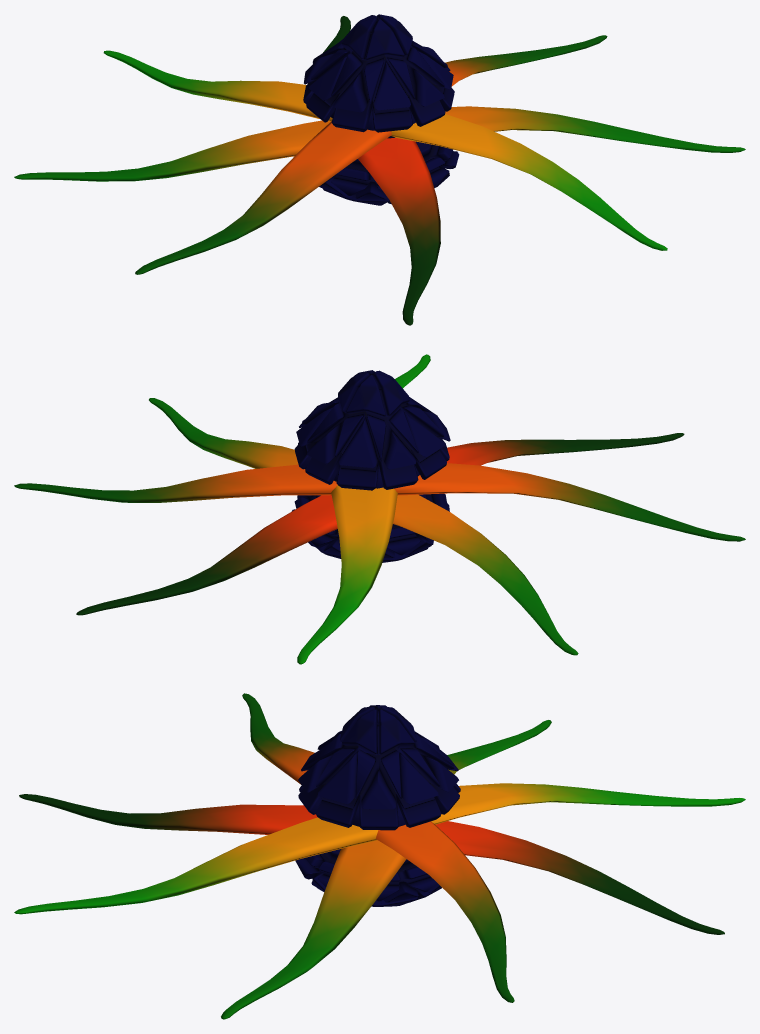
The model's file is baddie2.glb.
The picture shows the model from 3 angles, top to bottom: view 1: azimuth 30°, elevation 25°; view 2: azimuth 150°, elevation 25°; view 3: azimuth 270°, elevation 25°; orthographic projection. The views are drawn at different scales.
Parts seen in each view (by area): view 1: Cube; view 2: Cube; view 3: Cube.
Boxes of the visible parts, box(x1,y1,x2,y2) form: Cube: box(14, 14, 745, 325); Cube: box(14, 354, 745, 664); Cube: box(14, 693, 745, 1019).
Size of the model in its own units: 23.85 by 6.83 by 23.78.
